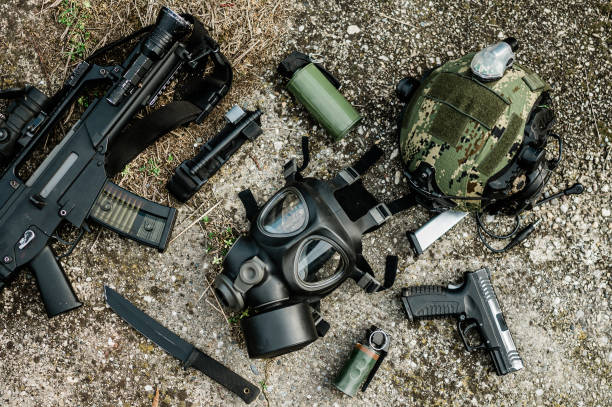e1: (275, 47, 359, 137), (337, 327, 391, 400)
